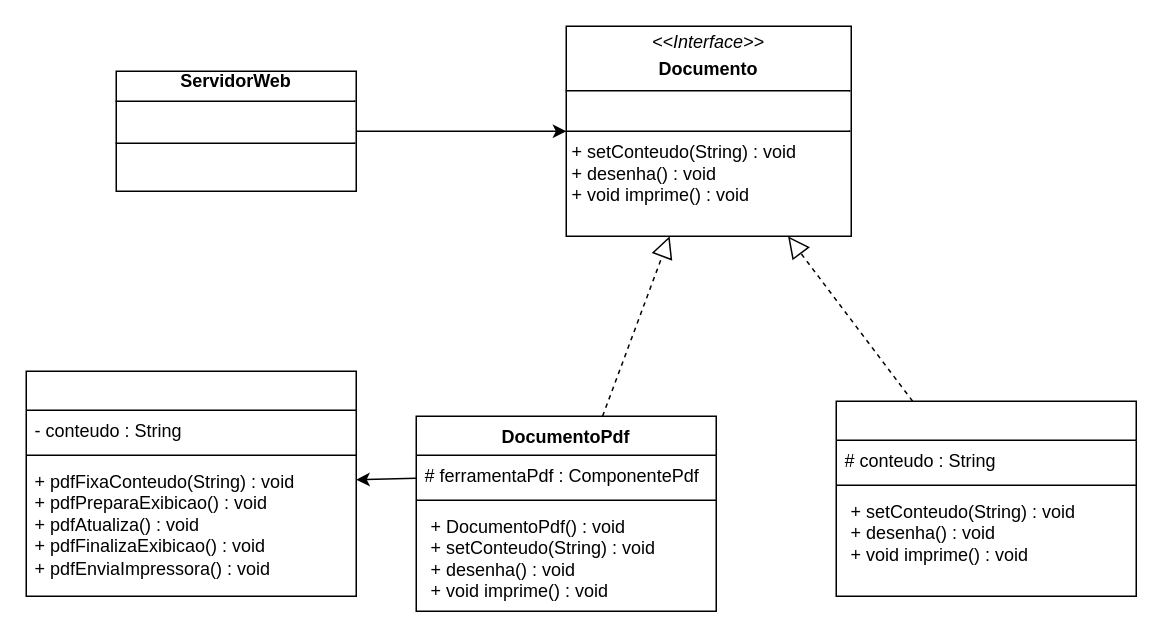
Some shapes in this 1163 by 642 pixel diagram are drawn without their labels. The shapes that lost their labels are listed below. From the top down, each one's box as (x1, y1, x2, y2) in pixels, then its label:
(25, 370, 356, 596): ComponentePdf
(835, 400, 1136, 596): DocumentoHtml
